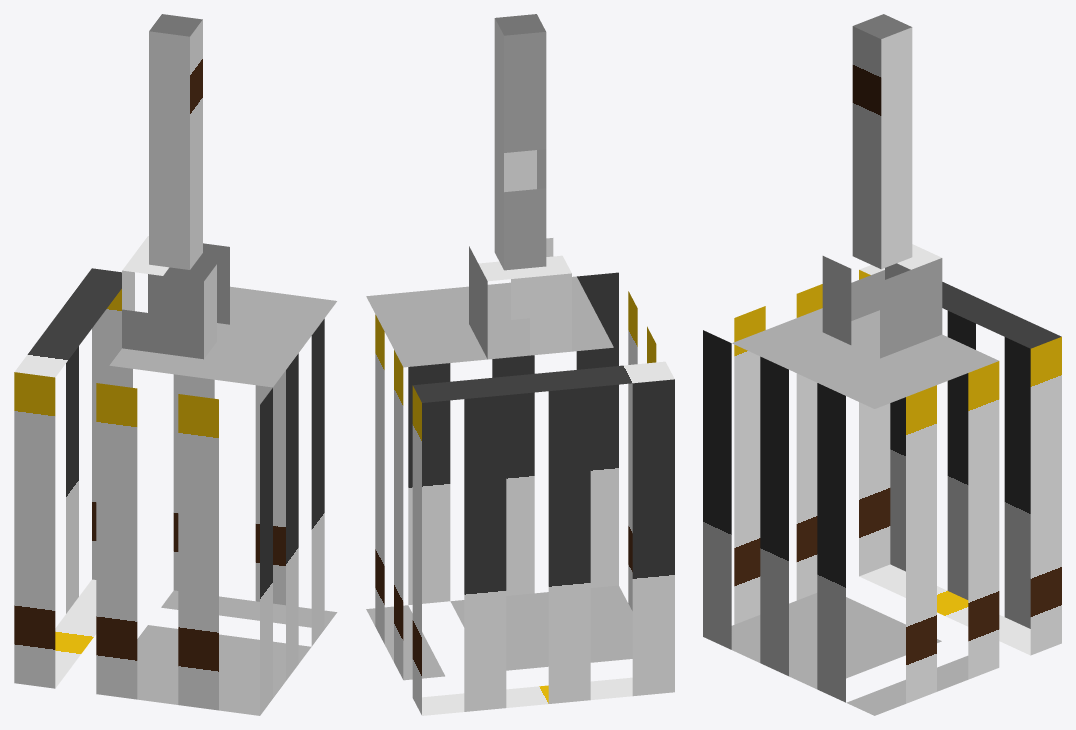
The model's file is anti_personnel_mine.obj.
3 views of the same model, side by side, from view 1: azimuth 30°, elevation 25°; view 2: azimuth 150°, elevation 25°; view 3: azimuth 270°, elevation 25° (orthographic). The views are drawn at different scales.
Visible parts, largest first — view 1: mesh; view 2: mesh; view 3: mesh.
Boxes of the visible parts, box(x1,y1,x2,y2) form: mesh: box(14, 14, 337, 715); mesh: box(366, 14, 674, 715); mesh: box(703, 14, 1061, 715).
Bounding box in the file's own units: 0.5298 × 1 × 0.5298.
